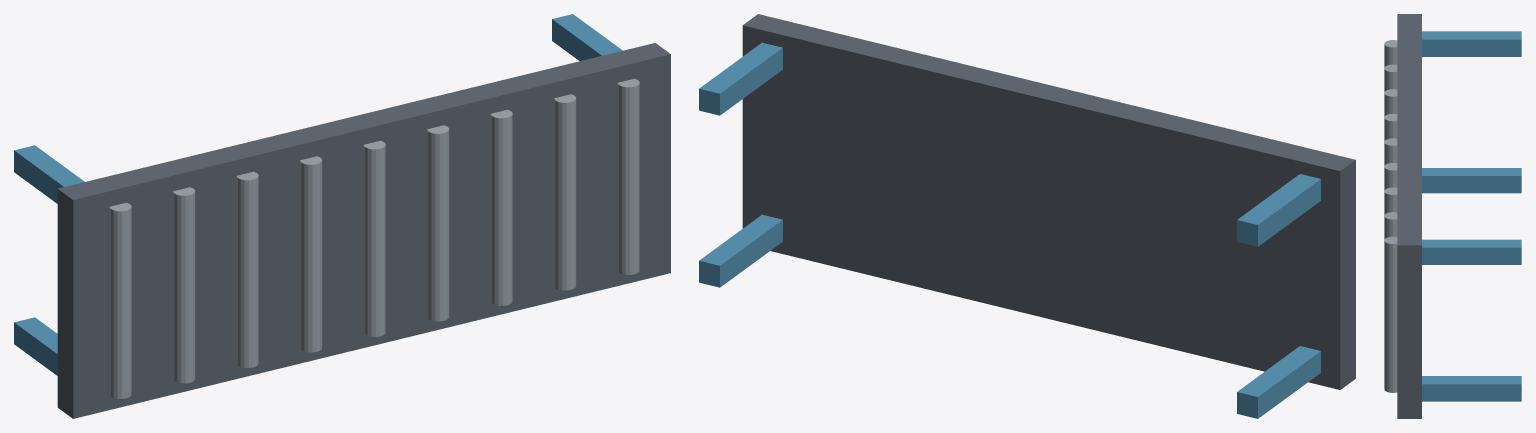
File: conveyor.glb
The picture shows the model from 3 angles, left to right: view 1: azimuth 30°, elevation 25°; view 2: azimuth 150°, elevation 25°; view 3: azimuth 270°, elevation 25°; orthographic projection. The views are drawn at different scales.
Parts seen in each view (by area): view 1: world; view 2: world; view 3: world.
Boxes of the visible parts, x1,y1,x2,y2 form: world: [14, 14, 670, 418]; world: [699, 14, 1355, 418]; world: [1384, 14, 1521, 418].
Bounding box in the file's own units: 4 × 1.4 × 1.01.
